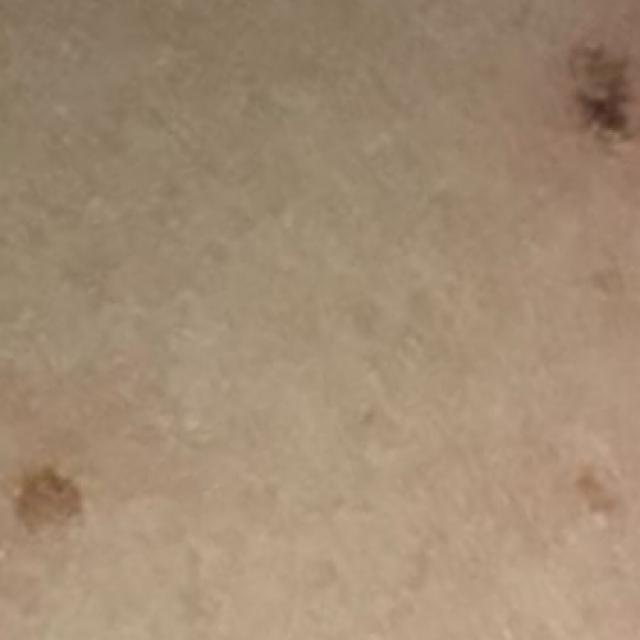wart: (561, 32, 638, 145), (8, 464, 92, 534)
